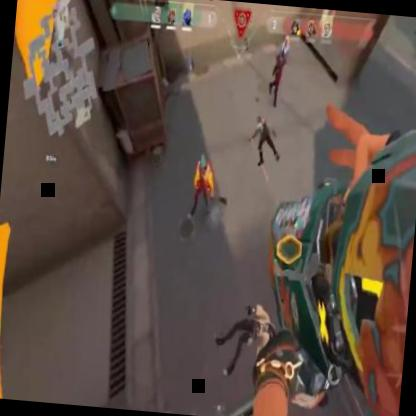enemy: (190, 153, 230, 219), (266, 35, 292, 111)
enemy_head: (199, 156, 208, 172), (282, 36, 290, 49)
